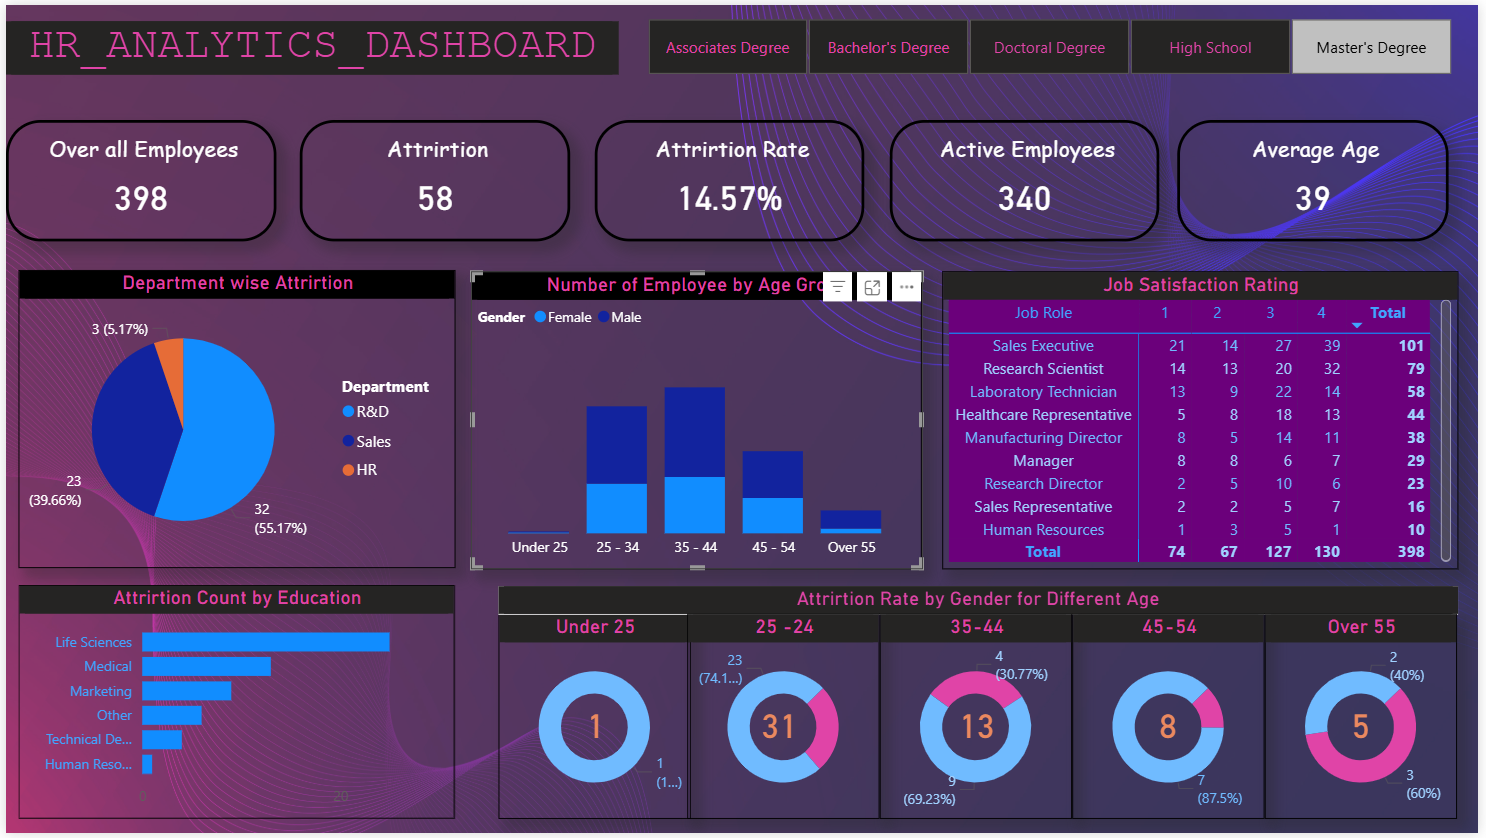

Layout of this report page (visuals, bound fields, positions):
{"tool":"powerbi","page":{"name":"Page 1","canvas":[1280,720],"ordinal":0},"visuals":[{"type":"card","title":"Over all Employees","fields":{"Values":["Sum(HR data.Employee Count)"]},"box":[0,100.2,235,105.7],"z":0},{"type":"card","title":"Attrirtion","fields":{"Values":["Sum(HR data.Attrirtion Count)"]},"box":[255.2,100.2,235,105.7],"z":1000},{"type":"card","title":"Attrirtion Rate","fields":{"Values":["HR data.Attrirtion Rate"]},"box":[511.8,100.2,234.6,105.7],"z":2000},{"type":"card","title":"Active Employees","fields":{"Values":["HR data.Active Employees"]},"box":[768.4,100.2,234.6,105.7],"z":3000},{"type":"card","title":"Average Age","fields":{"Values":["Avg(HR data.Age)"]},"box":[1018.2,100.2,236,105.7],"z":4000},{"type":"pieChart","title":"Department wise Attrirtion ","fields":{"Category":["HR data.Department"],"Y":["Sum(HR data.Attrirtion Count)"]},"box":[10.5,230.2,380.2,259.3],"z":5000},{"type":"columnChart","title":"Number of Employee by Age Group","fields":{"Category":["HR data.CF_age band"],"Y":["Sum(HR data.Employee Count)"],"Series":["HR data.Gender"]},"box":[404.7,231.4,391.9,259.3],"z":6000},{"type":"pivotTable","title":"Job Satisfaction Rating","fields":{"Rows":["HR data.Job Role"],"Columns":["HR data.Job Satisfaction"],"Values":["Sum(HR data.Employee Count)"]},"box":[814,231.4,448.8,259.3],"z":6001},{"type":"barChart","title":" Attrirtion Count by Education ","fields":{"Category":["HR data.Education Field"],"Y":["Sum(HR data.Attrirtion Count)"]},"box":[10.5,504.7,379.1,203.5],"z":6002},{"type":"donutChart","title":"Under 25","fields":{"Category":["HR data.Gender"],"Y":["Sum(HR data.Attrirtion Count)"],"Series":["HR data.CF_age band"]},"box":[428.1,529.7,167.4,178.4],"z":6003},{"type":"textbox","title":"Attrirtion Rate by Gender for Different Age ","box":[428.1,505,834.3,24.7],"z":6004},{"type":"donutChart","title":" 25 -24 ","fields":{"Category":["HR data.Gender"],"Y":["Sum(HR data.Attrirtion Count)"],"Series":["HR data.CF_age band"]},"box":[592.8,529.7,167.4,178.4],"z":6005},{"type":"donutChart","title":"35-44","fields":{"Category":["HR data.Gender"],"Y":["Sum(HR data.Attrirtion Count)"],"Series":["HR data.CF_age band"]},"box":[760.2,529.7,167.4,178.4],"z":6006},{"type":"donutChart","title":"45-54","fields":{"Category":["HR data.Gender"],"Y":["Sum(HR data.Attrirtion Count)"],"Series":["HR data.CF_age band"]},"box":[927.6,529.7,167.4,178.4],"z":6007},{"type":"donutChart","title":"Over 55","fields":{"Category":["HR data.Gender"],"Y":["Sum(HR data.Attrirtion Count)"],"Series":["HR data.CF_age band"]},"box":[1095,529.7,167.4,178.4],"z":6008},{"type":"card","fields":{"Values":["Sum(HR data.Attrirtion Count)"]},"box":[469.3,606.5,86.4,38.4],"z":6009},{"type":"card","fields":{"Values":["Sum(HR data.Attrirtion Count)"]},"box":[629.8,606.5,86.4,38.4],"z":6010},{"type":"card","fields":{"Values":["Sum(HR data.Attrirtion Count)"]},"box":[801.4,606.5,86.4,38.4],"z":6011},{"type":"card","fields":{"Values":["Sum(HR data.Attrirtion Count)"]},"box":[967.4,606.5,86.4,38.4],"z":6012},{"type":"card","fields":{"Values":["Sum(HR data.Attrirtion Count)"]},"box":[1134.8,606.5,86.4,38.4],"z":6013},{"type":"textbox","title":"HR_ANALYTICS_DASHBOARD","box":[0,13.7,532.4,46.7],"z":6014},{"type":"slicer","fields":{"Values":["HR data.Education"]},"box":[532.4,5.5,747.9,61.7],"z":6015}]}

Visuals, with their boxes in screenshot pixels (x1, y1, x2, y2), scaled from the page's 1280x720 canvas onto the 1486x838 screenshot:
"Over all Employees" card: select_region(0, 117, 273, 240)
"Attrirtion" card: select_region(296, 117, 569, 240)
"Attrirtion Rate" card: select_region(594, 117, 867, 240)
"Active Employees" card: select_region(892, 117, 1164, 240)
"Average Age" card: select_region(1182, 117, 1456, 240)
"Department wise Attrirtion " pieChart: select_region(12, 268, 454, 570)
"Number of Employee by Age Group" columnChart: select_region(470, 269, 925, 571)
"Job Satisfaction Rating" pivotTable: select_region(945, 269, 1466, 571)
" Attrirtion Count by Education " barChart: select_region(12, 587, 452, 824)
"Under 25" donutChart: select_region(497, 617, 691, 824)
"Attrirtion Rate by Gender for Different Age " textbox: select_region(497, 588, 1466, 617)
" 25 -24 " donutChart: select_region(688, 617, 883, 824)
"35-44" donutChart: select_region(883, 617, 1077, 824)
"45-54" donutChart: select_region(1077, 617, 1271, 824)
"Over 55" donutChart: select_region(1271, 617, 1466, 824)
card - Sum(HR data.Attrirtion Count): select_region(545, 706, 645, 751)
card - Sum(HR data.Attrirtion Count): select_region(731, 706, 831, 751)
card - Sum(HR data.Attrirtion Count): select_region(930, 706, 1031, 751)
card - Sum(HR data.Attrirtion Count): select_region(1123, 706, 1223, 751)
card - Sum(HR data.Attrirtion Count): select_region(1317, 706, 1418, 751)
"HR_ANALYTICS_DASHBOARD" textbox: select_region(0, 16, 618, 70)
slicer - HR data.Education: select_region(618, 6, 1485, 78)
